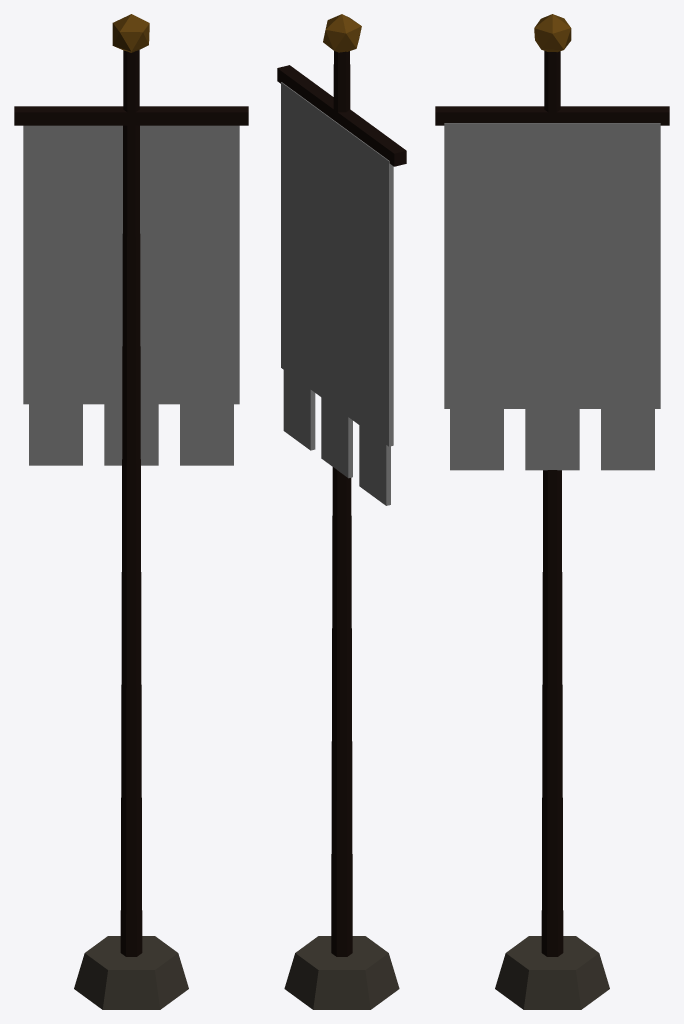
The model's file is standard.fbx.
3 views of the same model, side by side, from view 1: azimuth 90°, elevation 25°; view 2: azimuth 210°, elevation 25°; view 3: azimuth 270°, elevation 25° (orthographic).
Parts seen in each view (by area): view 1: standard; view 2: standard; view 3: standard.
Boxes of the visible parts, left/top/right/bottom form: standard: left=14, top=14, right=248, bottom=1009; standard: left=277, top=14, right=406, bottom=1009; standard: left=435, top=14, right=669, bottom=1009.
Bounding box in the file's own units: 0.5543 × 5.97 × 1.3.
